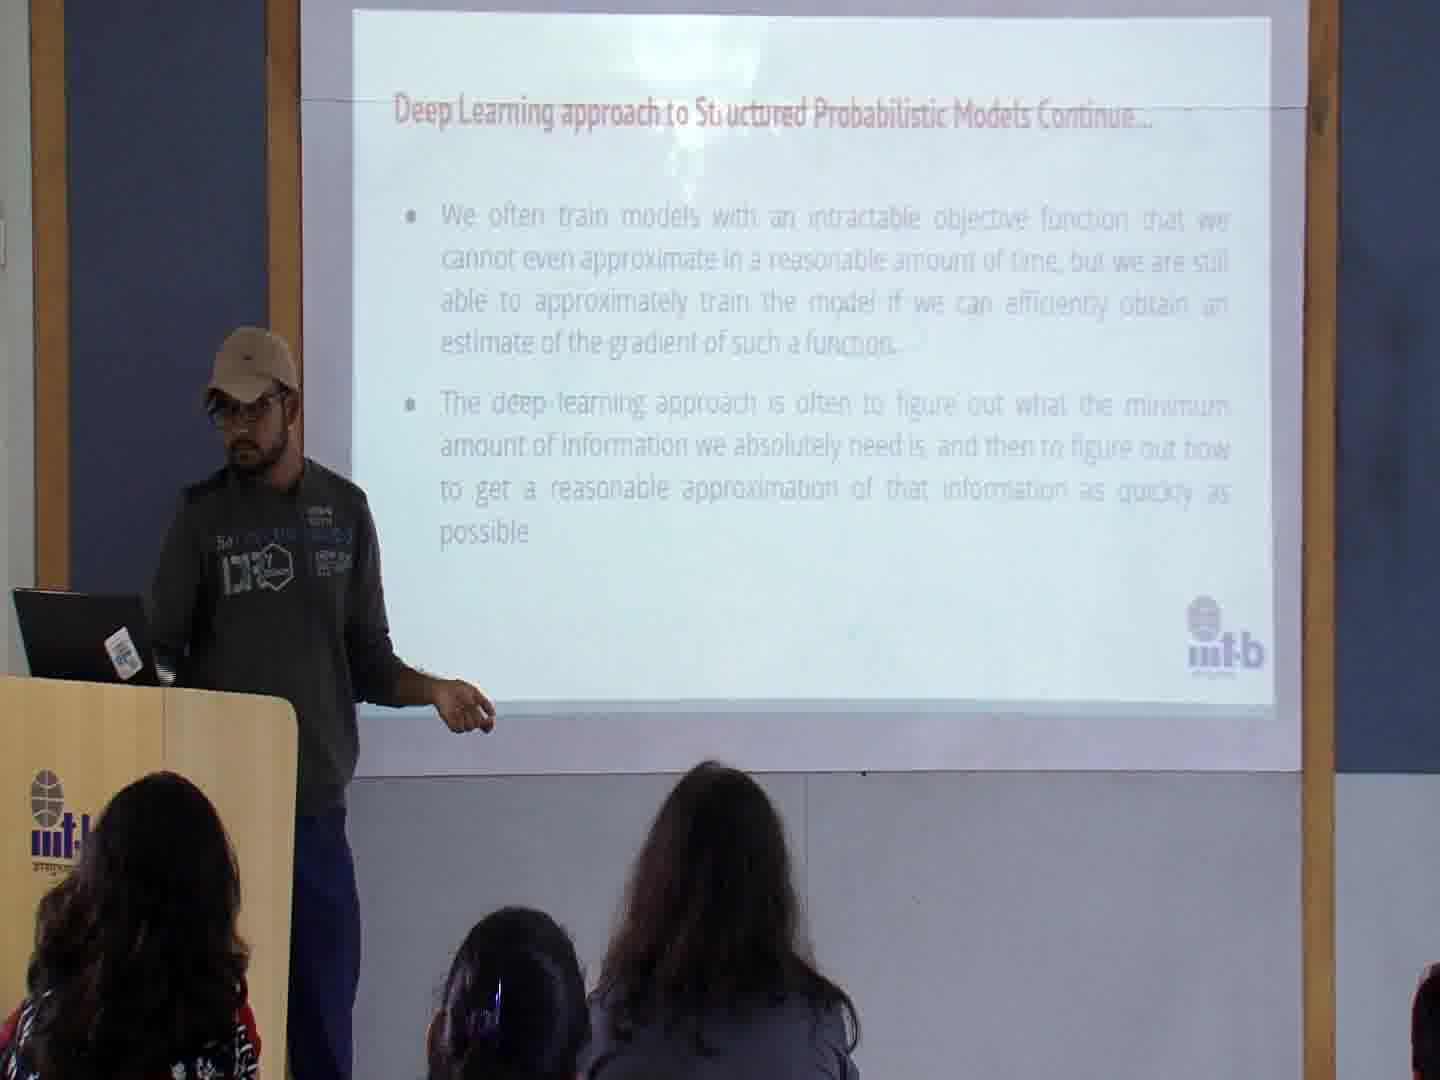slide: (351, 9, 1274, 715)
